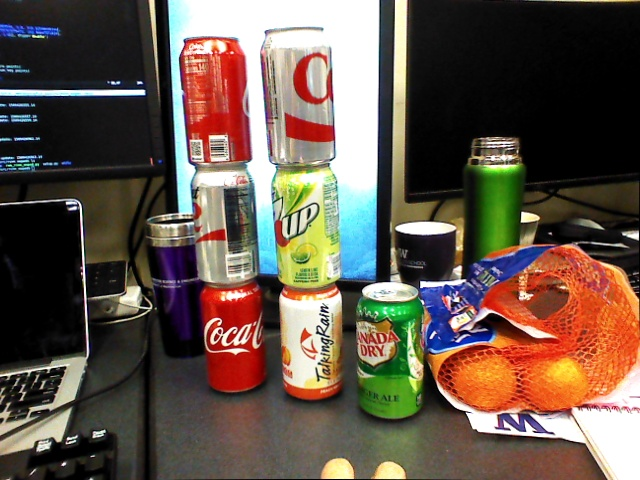can_coke: (178, 35, 253, 166), (199, 282, 267, 392)
can_diet_coke: (260, 26, 337, 164), (189, 167, 258, 284)
can_diet_seven_up: (270, 165, 342, 286)
can_ginger_ale: (355, 281, 425, 419)
can_talking_rain_peach_nectarine: (278, 286, 343, 400)
